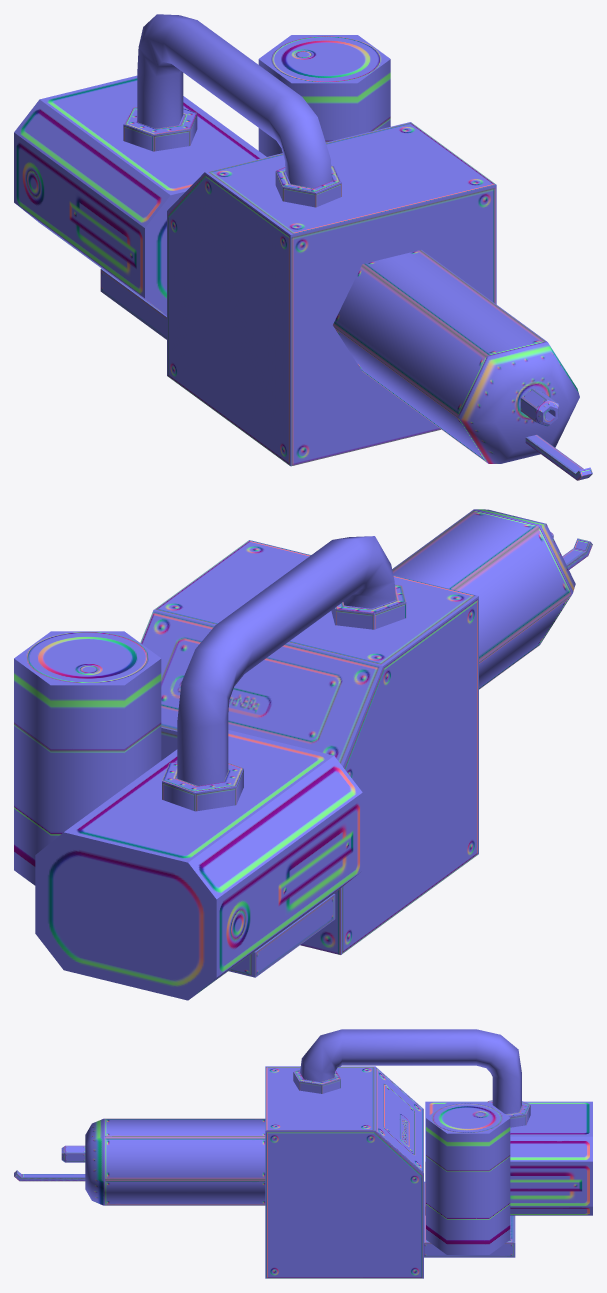
File: FlameThrower_Body.FBX
3 renders of one model, top to bottom at view 1: azimuth 30°, elevation 25°; view 2: azimuth 150°, elevation 25°; view 3: azimuth 270°, elevation 25°, orthographic. The views are drawn at different scales.
Visible parts, largest first — view 1: Box040; view 2: Box040; view 3: Box040.
Boxes of the visible parts, x1,y1,x2,y2 form: Box040: (14, 14, 592, 480); Box040: (14, 509, 592, 1000); Box040: (14, 1029, 592, 1278).
Size of the model in its own units: 39.45 by 45.06 by 118.
